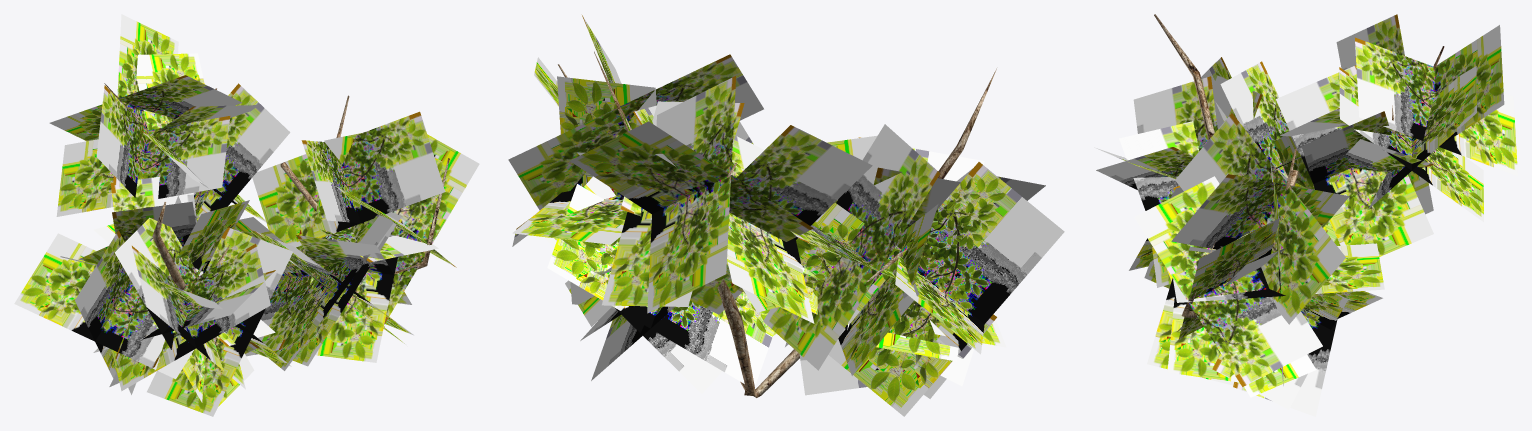
The model's file is bush0_LOD1.fbx.
3 renders of one model, left to right at view 1: azimuth 30°, elevation 25°; view 2: azimuth 150°, elevation 25°; view 3: azimuth 270°, elevation 25°, orthographic. The views are drawn at different scales.
Visible parts, largest first — view 1: bush_branch, bush; view 2: bush_branch, bush; view 3: bush_branch, bush.
Boxes of the visible parts, bbox=[...] form: bush_branch: bbox=[14, 14, 479, 416]; bush: bbox=[104, 83, 449, 290]; bush_branch: bbox=[508, 15, 1064, 416]; bush: bbox=[558, 51, 996, 397]; bush_branch: bbox=[1094, 14, 1517, 416]; bush: bbox=[1154, 14, 1444, 317].
Size of the model in its own units: 831 by 574 by 683.
3 materials, 3 textured.
